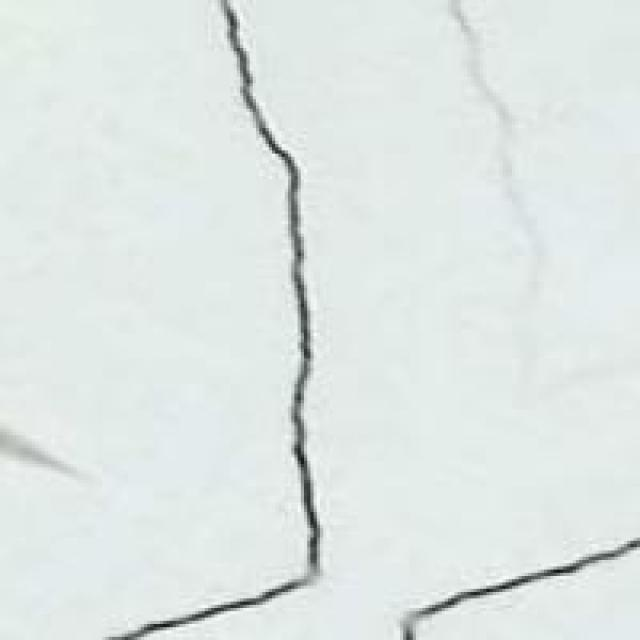Crack: (109, 0, 359, 637)
